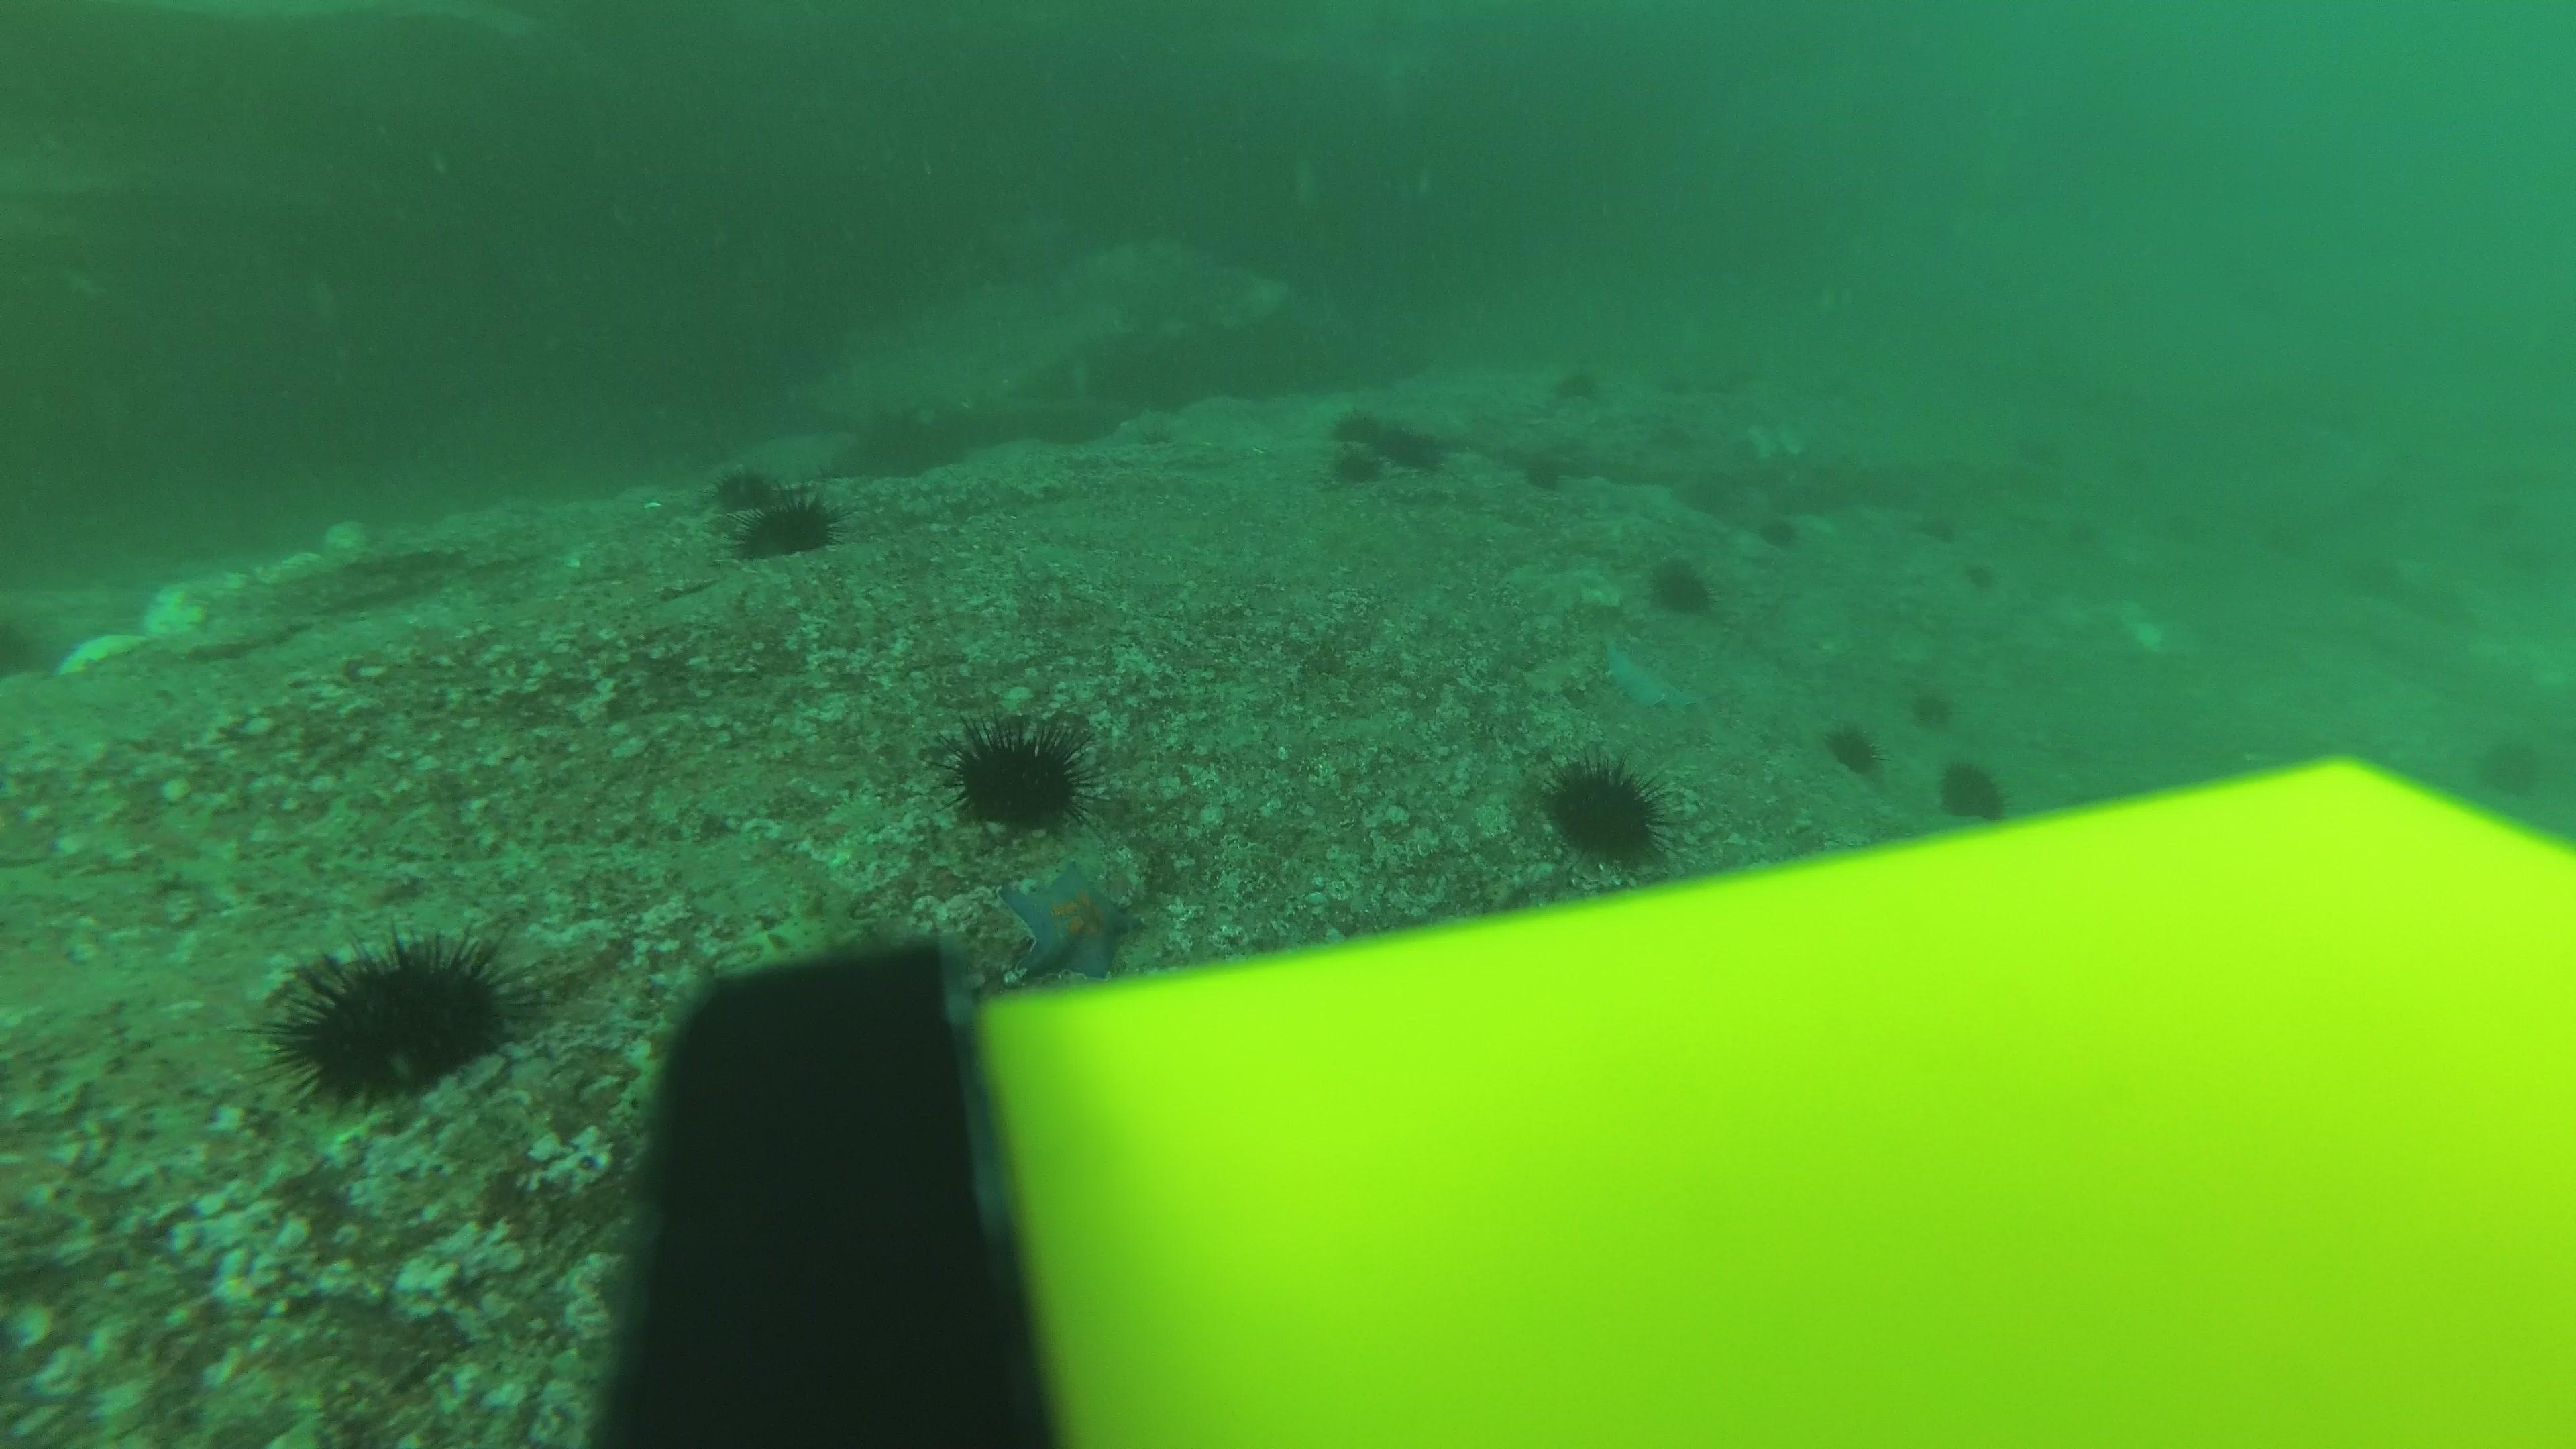echinus: (265, 925, 525, 1111), (945, 713, 1092, 833), (1539, 752, 1672, 867), (724, 499, 839, 561), (2468, 727, 2551, 801), (1936, 755, 2013, 826), (1645, 552, 1718, 617), (706, 458, 791, 511), (1824, 718, 1882, 777), (1322, 405, 1387, 449), (1518, 446, 1575, 494), (2265, 499, 2312, 550), (1913, 672, 1960, 722), (1960, 552, 2008, 602), (1913, 504, 1960, 554), (2061, 502, 2109, 552), (2008, 428, 2056, 478), (2123, 451, 2171, 501), (2162, 508, 2210, 557), (2373, 550, 2420, 600), (2415, 577, 2463, 626), (2477, 488, 2525, 538), (2503, 554, 2551, 603), (1645, 364, 1693, 414), (1552, 361, 1605, 405), (1674, 471, 1727, 515), (1396, 428, 1445, 474), (1757, 510, 1808, 554), (1329, 439, 1378, 483), (1362, 416, 1412, 460)
starfish: (996, 860, 1143, 982), (1596, 633, 1693, 713), (1116, 405, 1180, 449)
